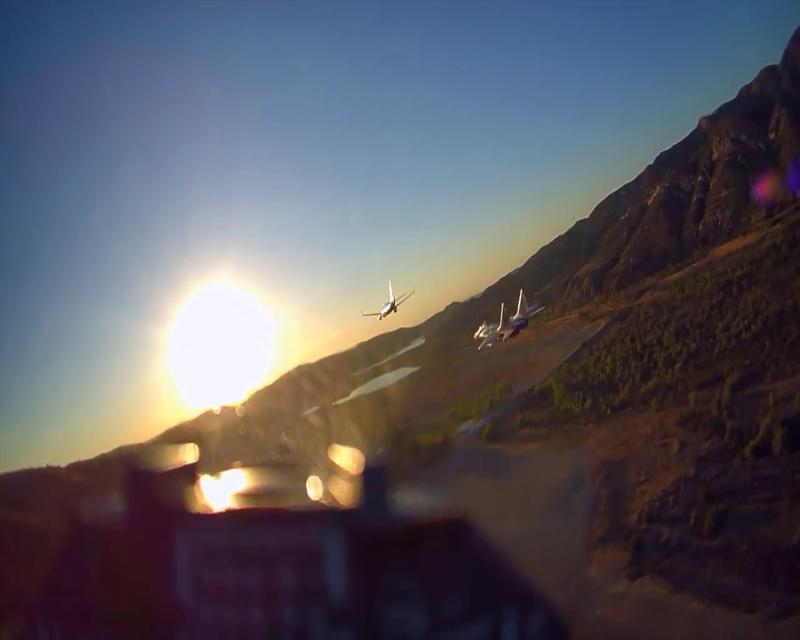UAV: (473, 289, 545, 351), (359, 280, 416, 322)
